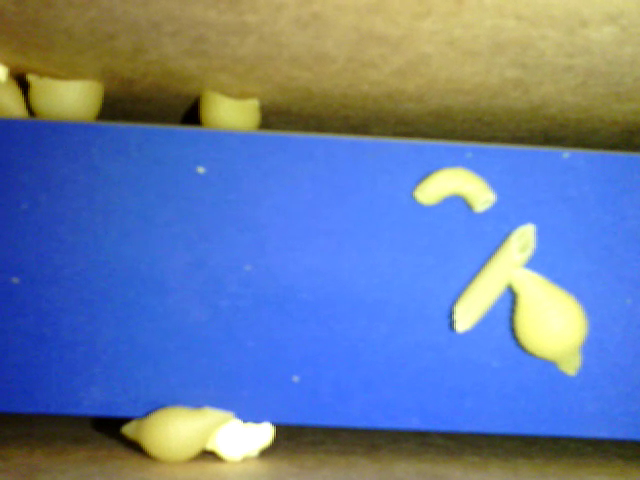elbow: (121, 404, 232, 464), (26, 70, 105, 122), (413, 166, 496, 212), (199, 87, 261, 129)
penne: (451, 223, 539, 335)
shell: (511, 265, 589, 377)
